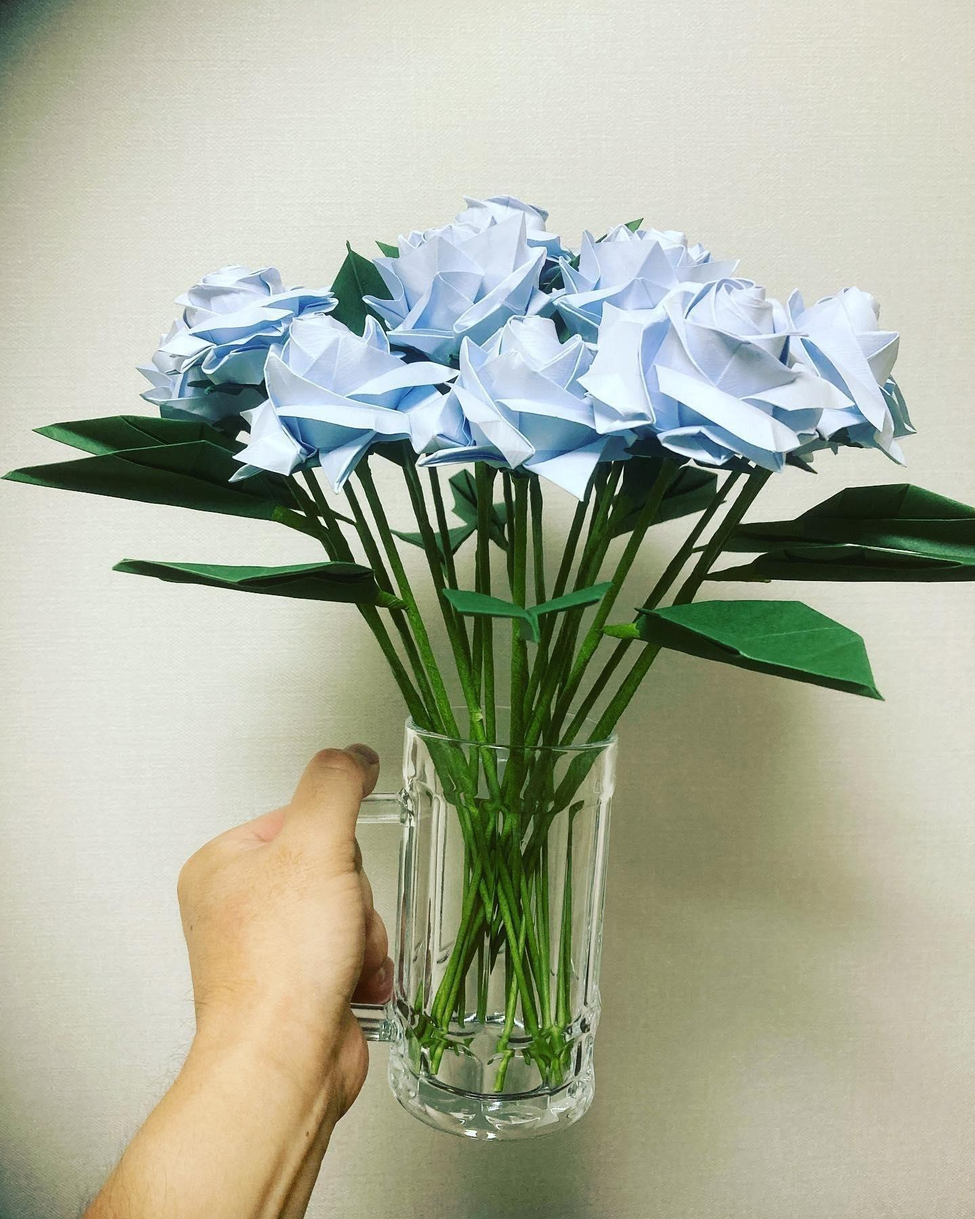glass-mug: (332, 704, 619, 1149)
